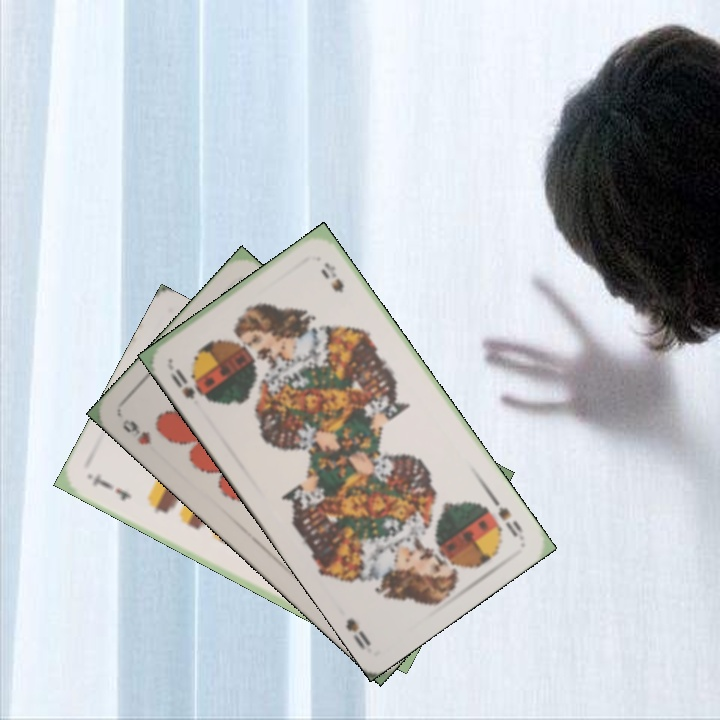E7: (88, 469, 135, 504)
H9: (118, 415, 155, 448)
SO: (485, 490, 526, 540), (166, 364, 212, 405)
